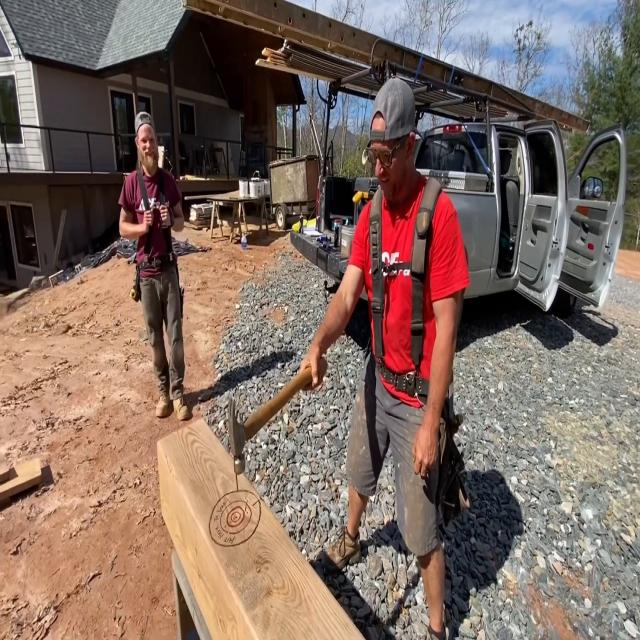hammer: (226, 352, 334, 480)
